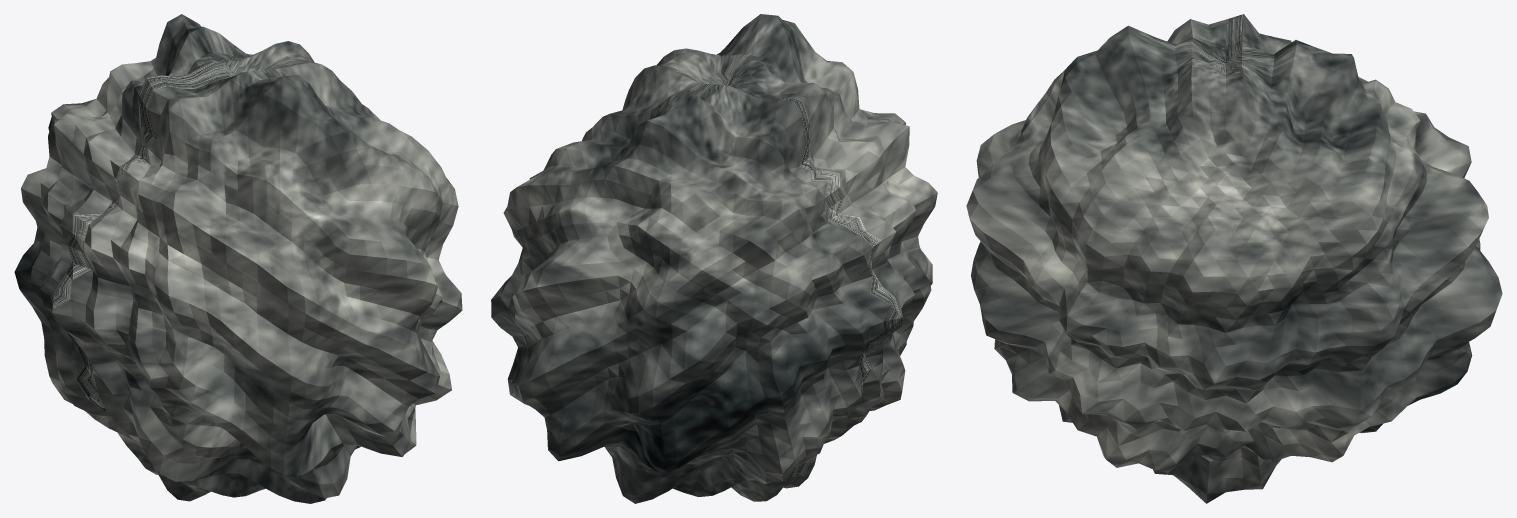
File: small_04.glb
The picture shows the model from 3 angles, left to right: view 1: azimuth 30°, elevation 25°; view 2: azimuth 150°, elevation 25°; view 3: azimuth 270°, elevation 25°; orthographic projection. The views are drawn at different scales.
Visible parts, largest first — view 1: rock; view 2: rock; view 3: rock.
Boxes of the visible parts, x1,y1,x2,y2 form: rock: (14,14,462,503); rock: (491,14,937,503); rock: (966,14,1502,503).
Size of the model in its own units: 1.13 by 1.32 by 1.44.
1 material, 1 textured.
